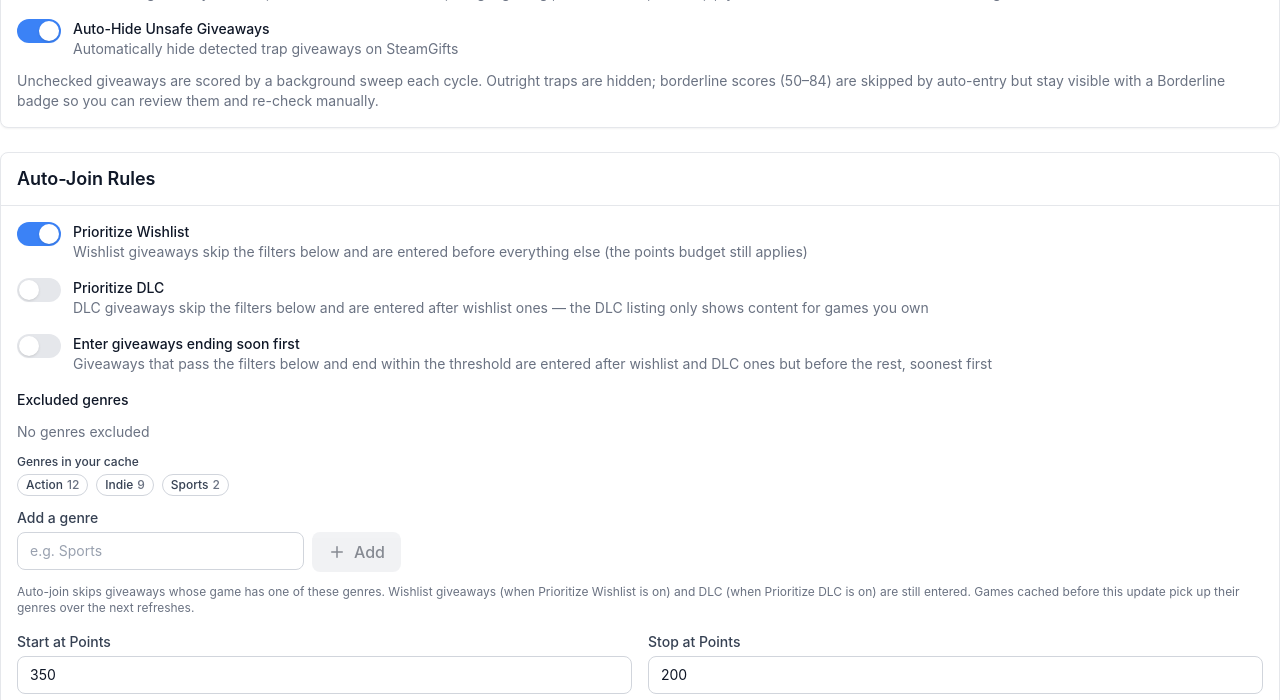
Test case: Settings page: ending soon review findings › restores the normal banner and drops the title once the threshold is valid again
(page scrolled)
Click the switch named "Enter giveaways ending soon first" next to "Enter giveaways ending soon first" at (39, 346), box [17, 334, 61, 358]
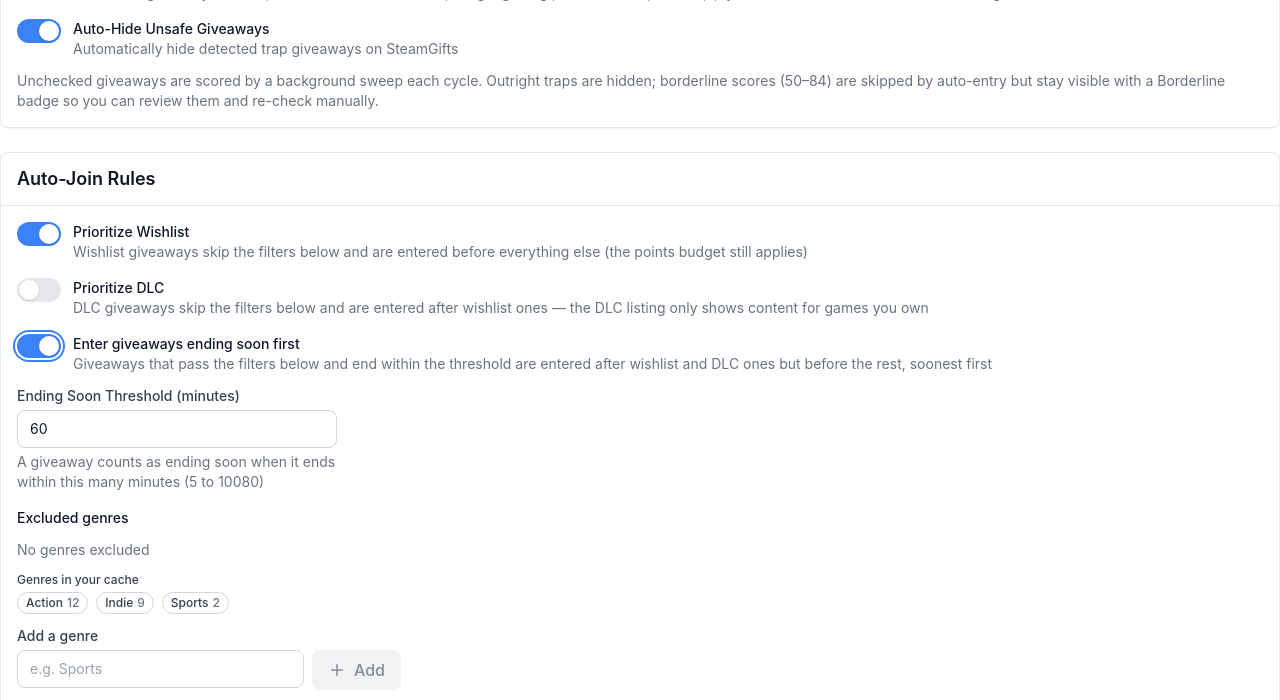
Replace the text in the number field labelled "Ending Soon Threshold (minutes)" with "120" at (177, 429), box [17, 410, 337, 448]
(page scrolled)
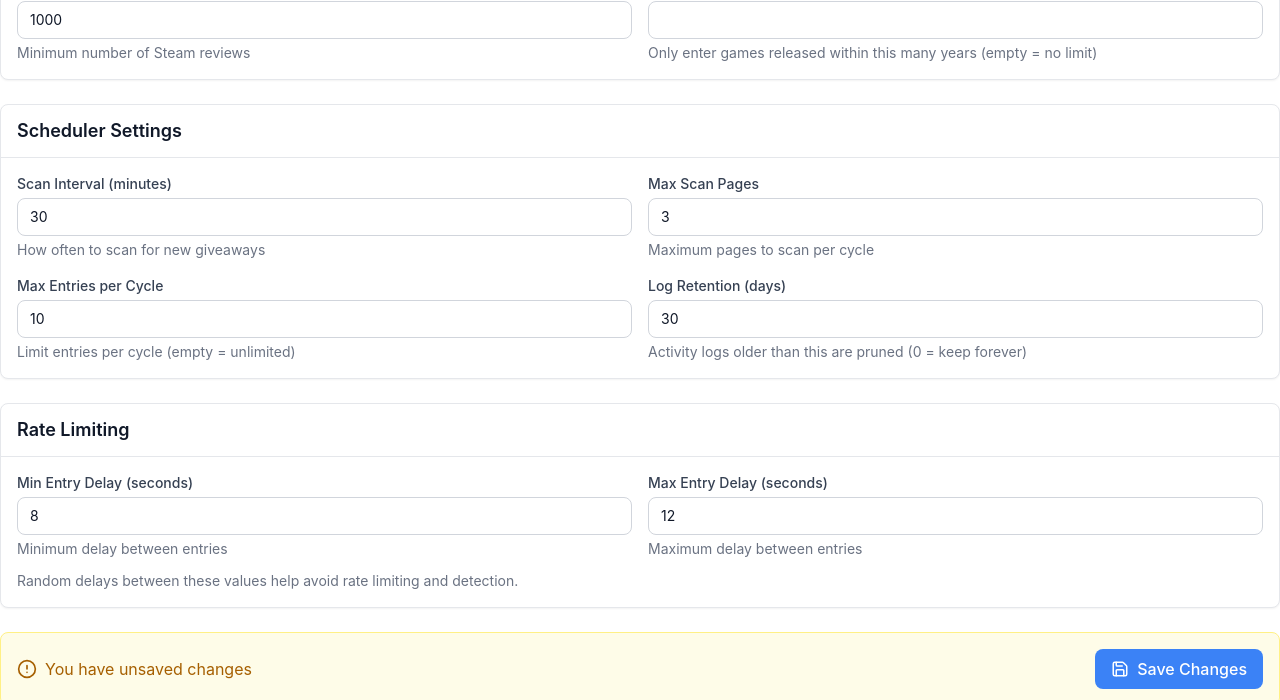
Result: the text "You have unsaved changes" is shown at [45, 657, 252, 681]
Result: the button "Save Changes" is enabled at [1095, 649, 1263, 689]
